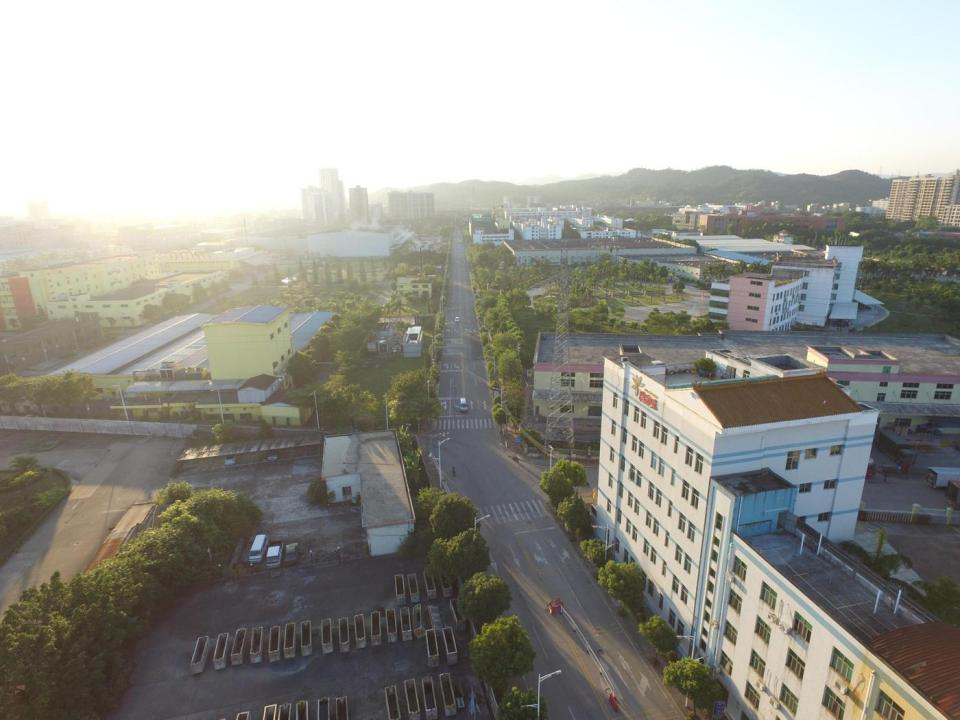car: (284, 542, 300, 565), (224, 447, 237, 466), (267, 441, 278, 461), (455, 315, 459, 323)
truck: (818, 433, 876, 480), (924, 465, 960, 490), (267, 538, 284, 570), (945, 480, 960, 506), (666, 274, 680, 283)
van: (248, 534, 268, 562), (459, 397, 469, 412)
